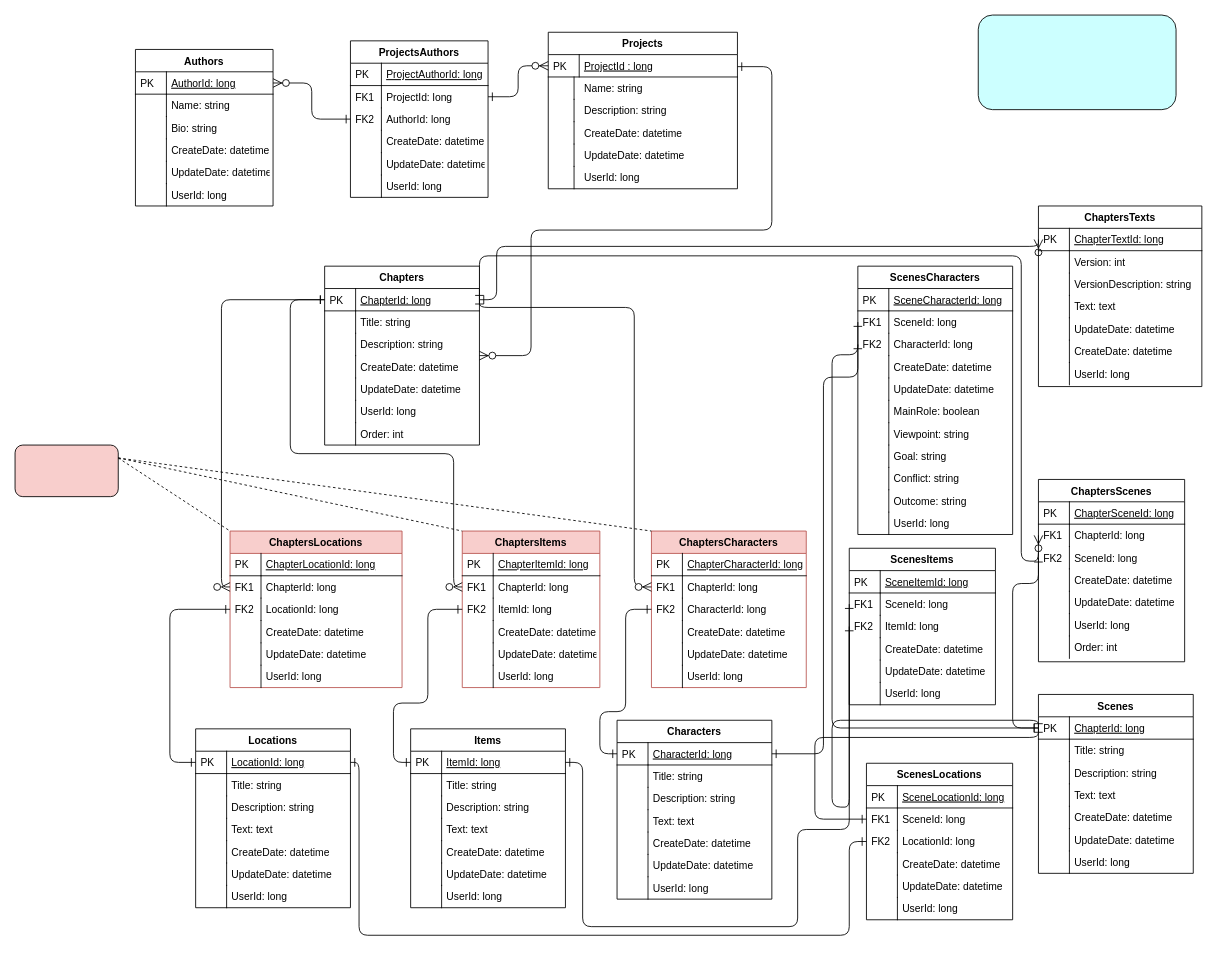
Some shapes in this 1217 by 960 pixel diagram are drawn without their labels. The centre of each missing label's shape, as x and y in pixels:
Check if useful or take sum of Scenes releated: point (66, 470)
Entity Relations Schema Writers App ( inspired by yWriter): point (1076, 62)
